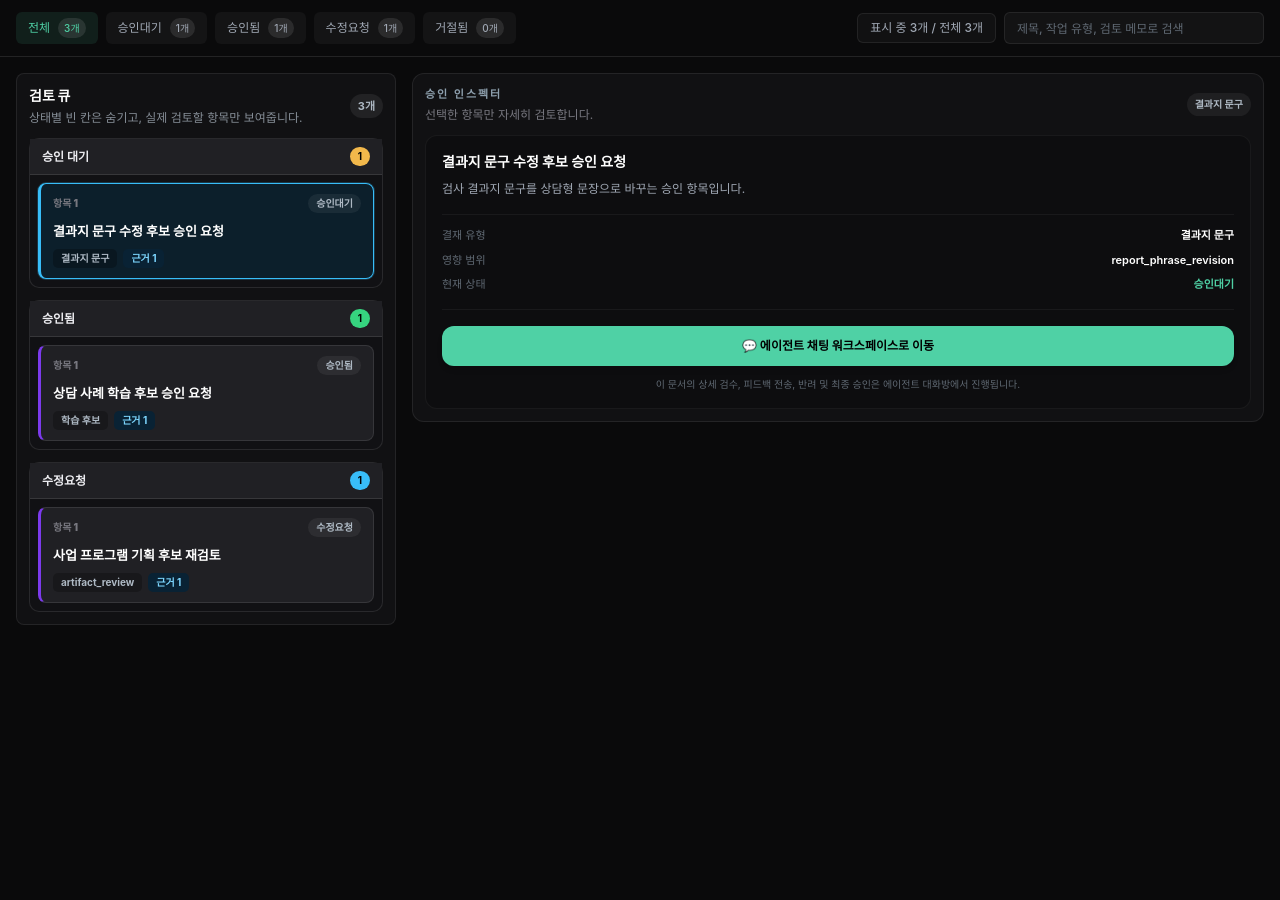
Scenario: ApprovalInbox › searches approvals by title, summary, task type, and reviewer note
Type "전사록" into the field named "승인 항목 검색" at (1134, 28), box [1004,12,1264,44]
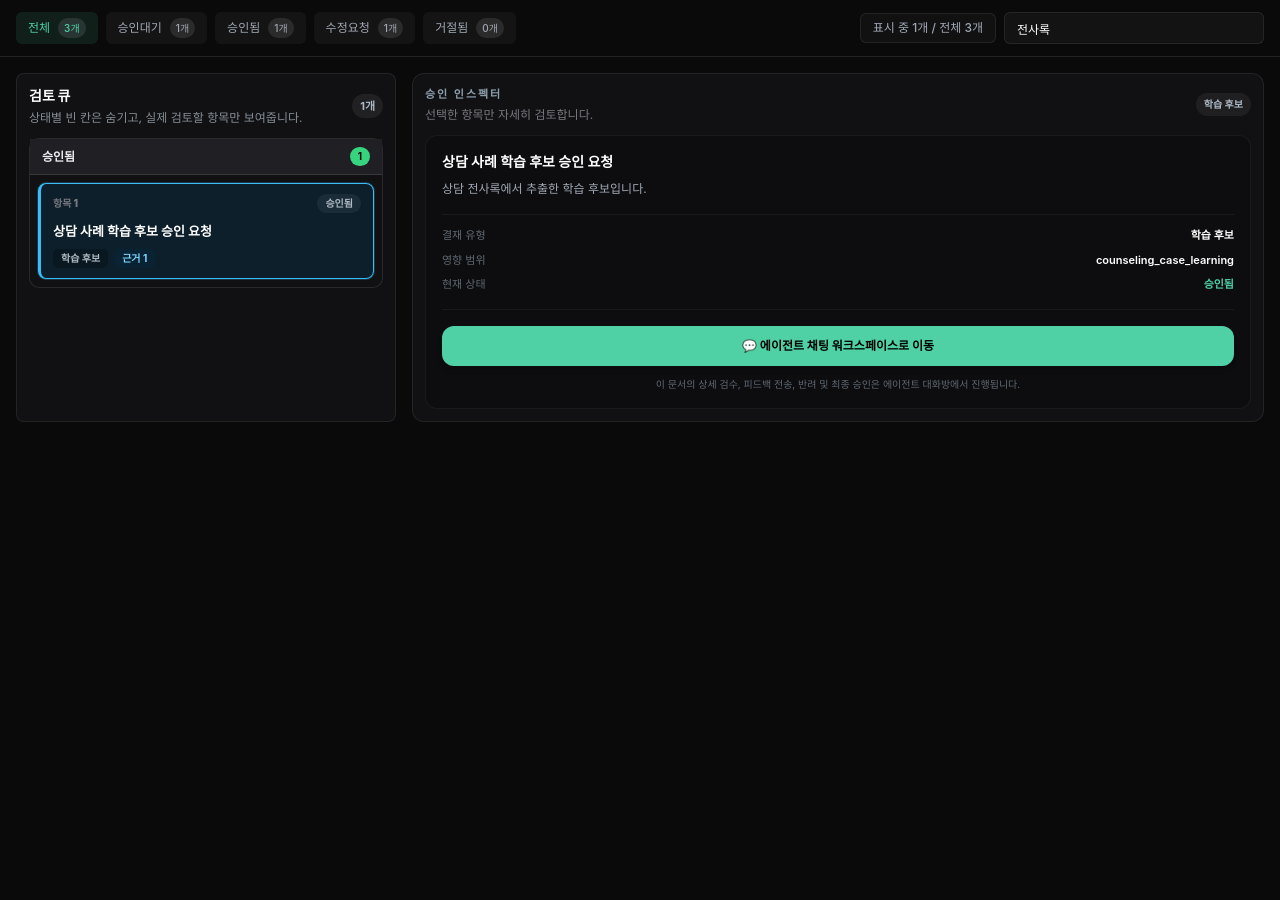
Expected: the text "상담 사례 학습 후보 승인 요청" is shown, [53,223,212,239]
Expected: the button "결과지 문구 수정 후보 승인 요청" is gone
Expected: the button "사업 프로그램 기획 후보 재검토" is gone
